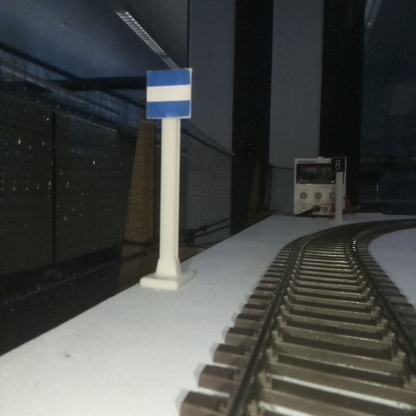black-info-8: (331, 156, 345, 222)
start: (147, 68, 190, 286)
